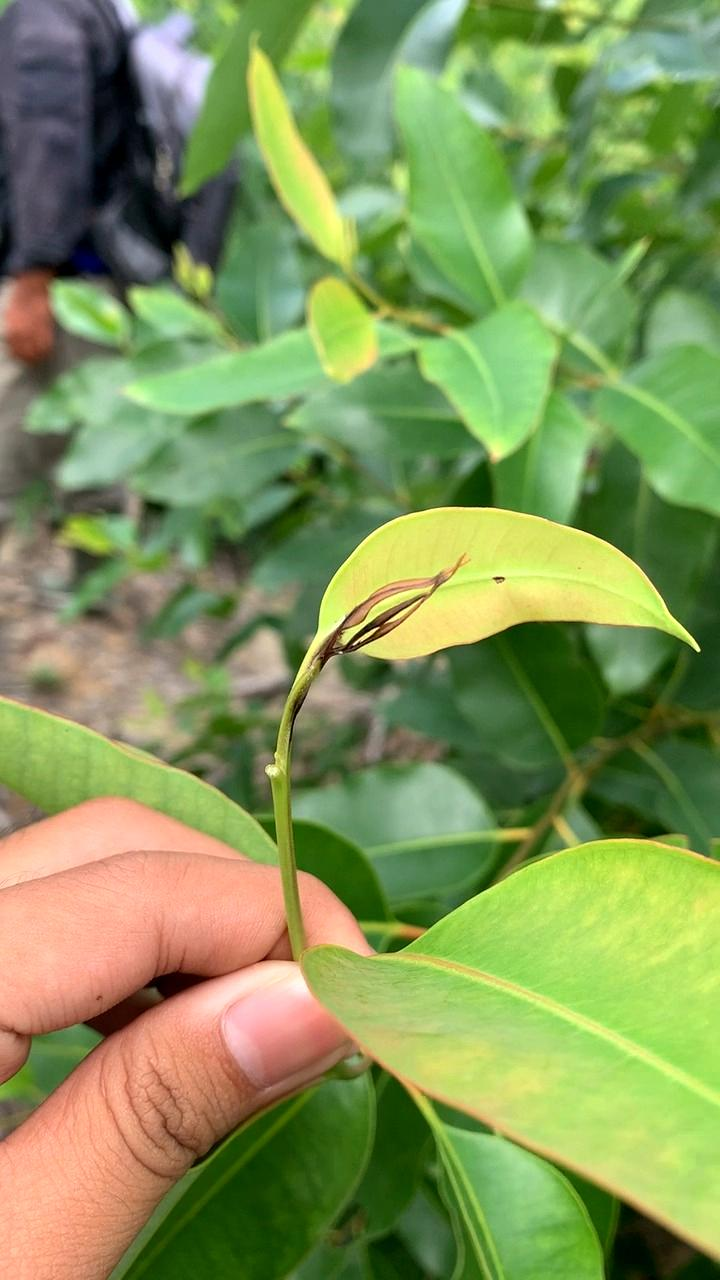Helopeltis-Withered Sprout: (281, 548, 476, 693)
